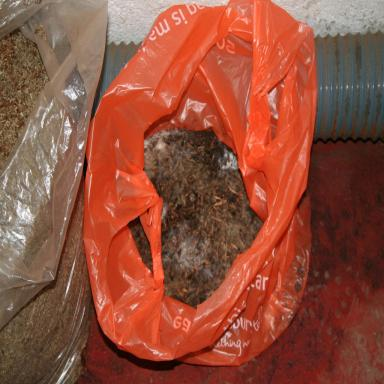plasticbag: (82, 0, 317, 367), (0, 0, 108, 383)
